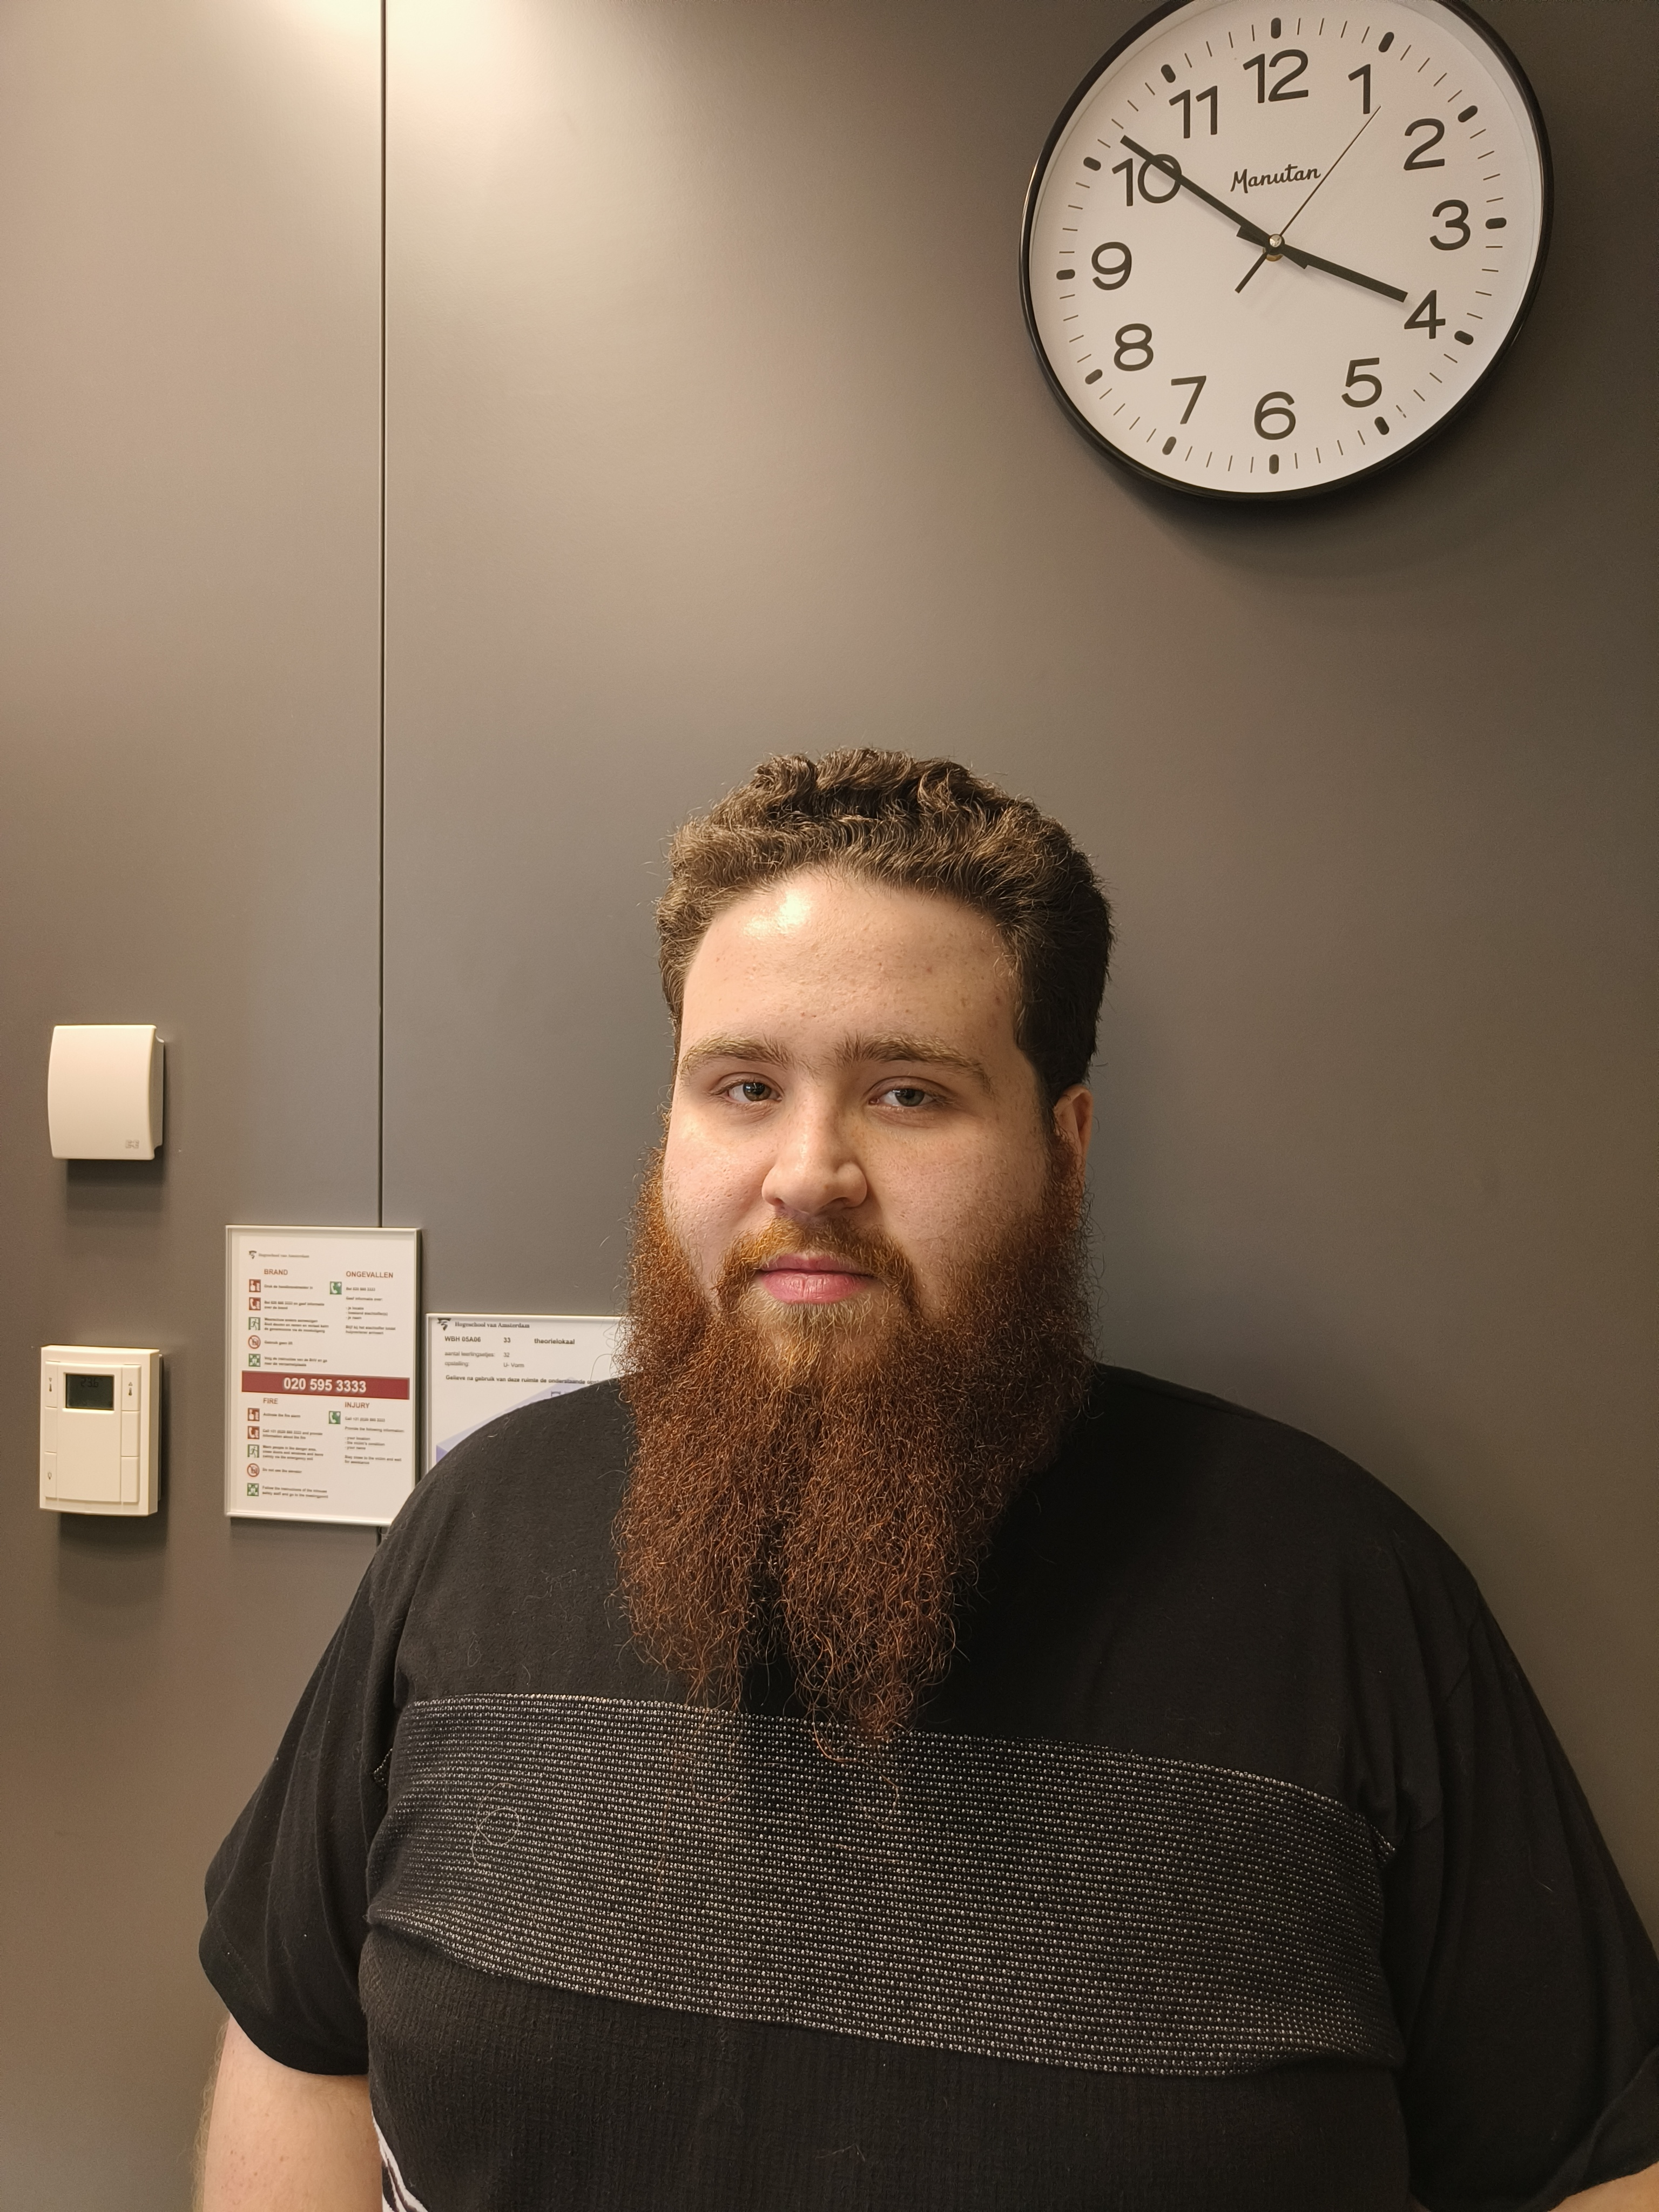face: (657, 888, 1038, 1350)
